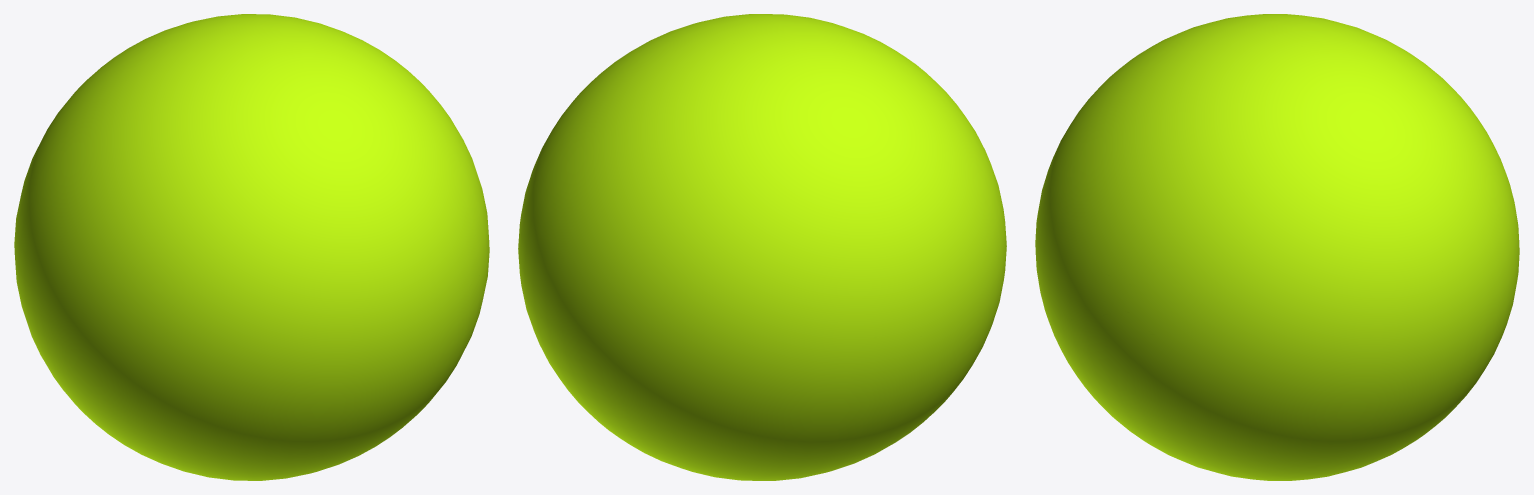
The model's file is Ball.fbx.
3 renders of one model, left to right at view 1: azimuth 30°, elevation 25°; view 2: azimuth 150°, elevation 25°; view 3: azimuth 270°, elevation 25°, orthographic.
Visible parts, largest first — view 1: root; view 2: root; view 3: root.
Boxes of the visible parts, x1=… form: root: x1=14, y1=14, x2=489, y2=480; root: x1=518, y1=14, x2=1006, y2=480; root: x1=1035, y1=14, x2=1519, y2=480.
Bounding box in the file's own units: 0.2959 × 0.2853 × 0.2974.
Materials: 1 (1 with a texture image).
